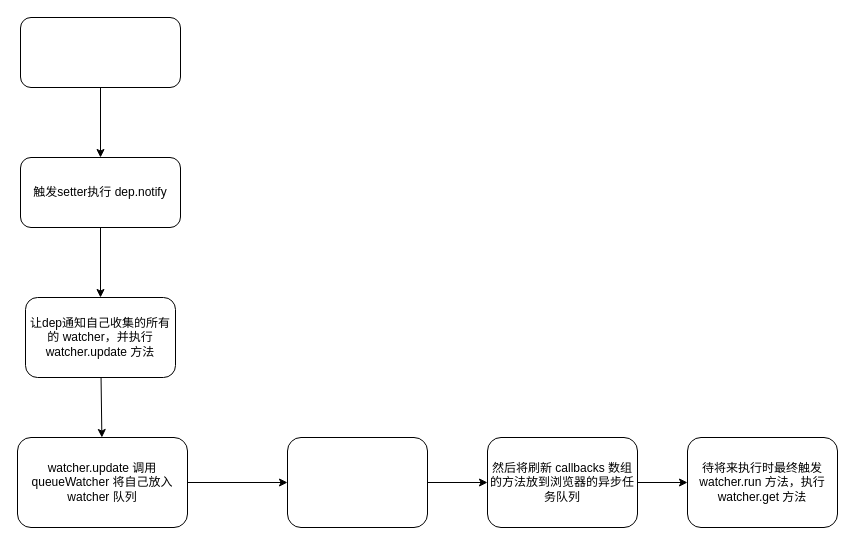
The diagram is 855 pixels wide and 545 high, and some of its shapes have lost their labels. The shapes that lost their labels are listed below. From the top down, each one's centre as x and y in pixels, then its label:
At (x=100, y=52): "数据发生变化".
At (x=357, y=482): "调用 nextTick 方法将刷新 watcher 队列的方法放到 callbacks 数组".
